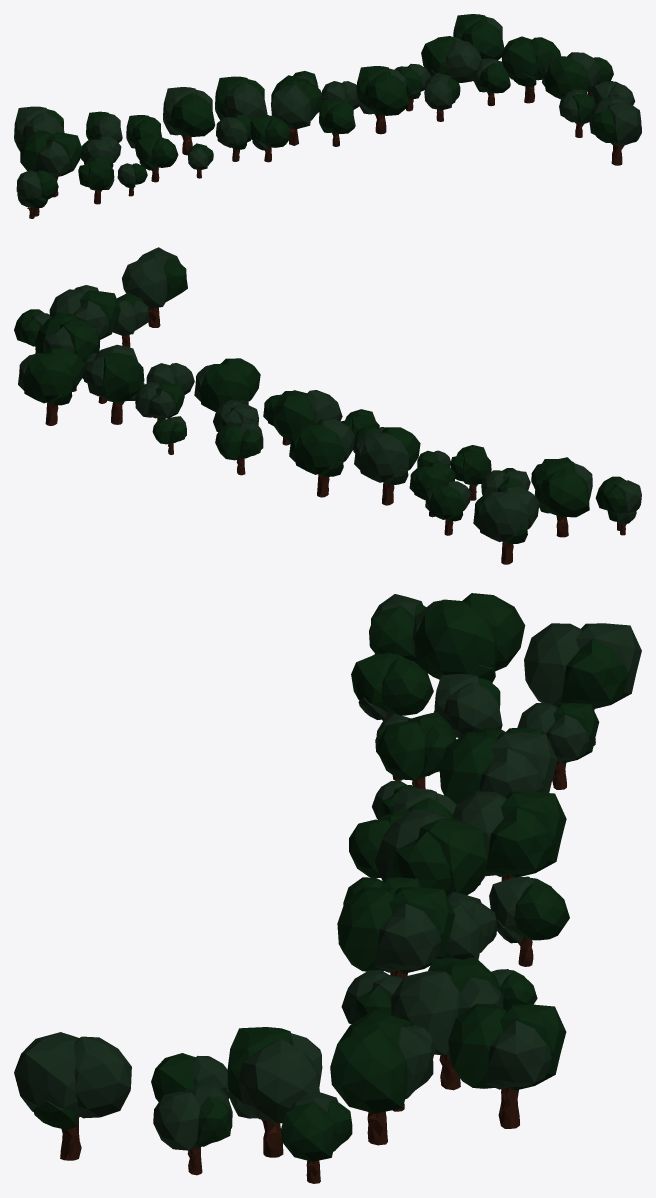
File: tree_0.obj
3 renders of one model, top to bottom at view 1: azimuth 30°, elevation 25°; view 2: azimuth 150°, elevation 25°; view 3: azimuth 270°, elevation 25°, orthographic. The views are drawn at different scales.
Size of the model in its own units: 72.16 by 8.11 by 36.07.
